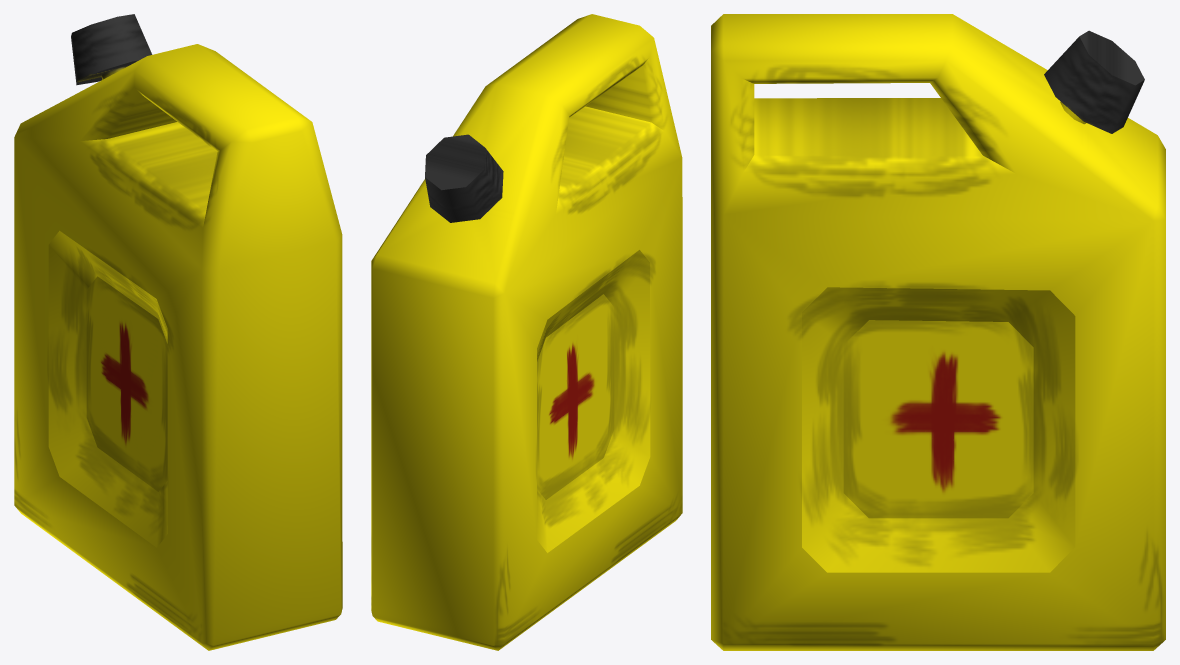
File: GasContainer.fbx
3 renders of one model, left to right at view 1: azimuth 30°, elevation 25°; view 2: azimuth 150°, elevation 25°; view 3: azimuth 270°, elevation 25°, orthographic. The views are drawn at different scales.
Parts seen in each view (by area): view 1: GasContainer; view 2: GasContainer; view 3: GasContainer.
Part boxes in pixels (x1,y1,x2,y2): GasContainer: (14, 14, 342, 650); GasContainer: (371, 14, 682, 650); GasContainer: (711, 14, 1165, 650).
Bounding box in the file's own units: 22.94 × 79.91 × 56.07.
